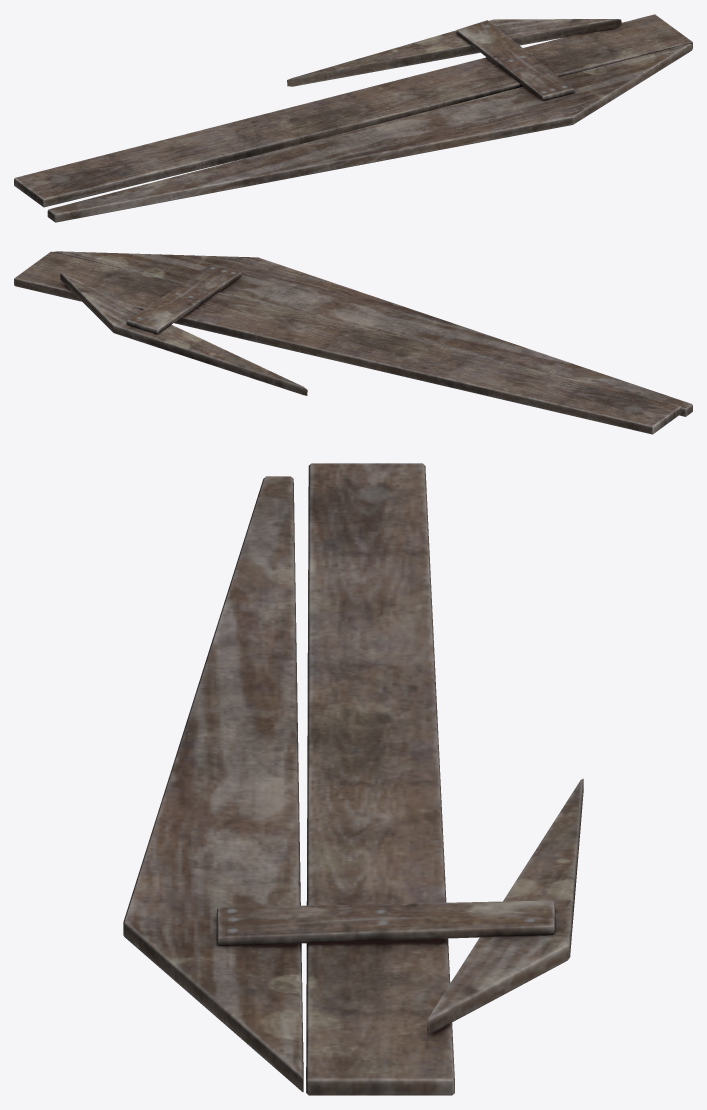
File: SM_CoffinsA.fbx
The picture shows the model from 3 angles, top to bottom: view 1: azimuth 30°, elevation 25°; view 2: azimuth 150°, elevation 25°; view 3: azimuth 270°, elevation 25°; orthographic projection. The views are drawn at different scales.
Visible parts, largest first — view 1: SM_CoffinsA_LOD0; view 2: SM_CoffinsA_LOD0; view 3: SM_CoffinsA_LOD0.
Boxes of the visible parts, x1=… form: SM_CoffinsA_LOD0: x1=14, y1=14, x2=692, y2=222; SM_CoffinsA_LOD0: x1=14, y1=251, x2=692, y2=434; SM_CoffinsA_LOD0: x1=123, y1=463, x2=583, y2=1095.
Size of the model in its own units: 192 by 60.54 by 7.46.
Materials: 1 (1 with a texture image).
